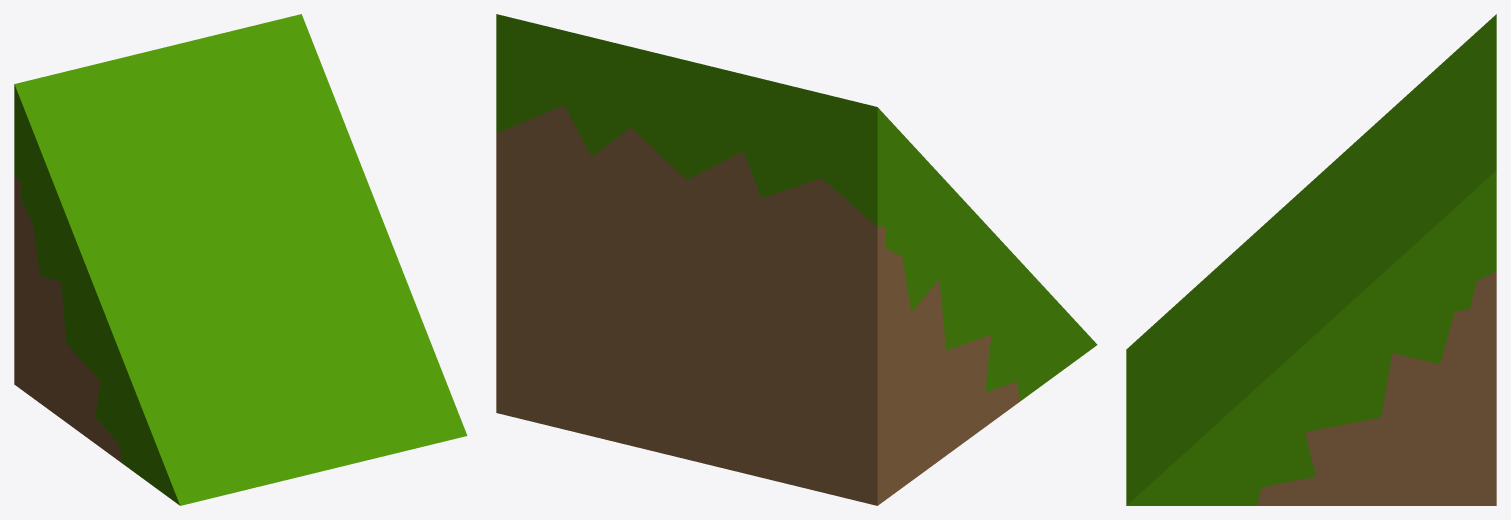
Rendered from RPG_Tiles_Square_Covered_Ramp_01.FBX.
3 views of the same model, side by side, from view 1: azimuth 30°, elevation 25°; view 2: azimuth 150°, elevation 25°; view 3: azimuth 270°, elevation 25° (orthographic). The views are drawn at different scales.
Visible parts, largest first — view 1: RPG_Tiles_Square_Covered_Ramp_01; view 2: RPG_Tiles_Square_Covered_Ramp_01; view 3: RPG_Tiles_Square_Covered_Ramp_01.
Part boxes in pixels (left/top/right/bottom): RPG_Tiles_Square_Covered_Ramp_01: left=14, top=14, right=467, bottom=505; RPG_Tiles_Square_Covered_Ramp_01: left=496, top=14, right=1097, bottom=505; RPG_Tiles_Square_Covered_Ramp_01: left=1126, top=14, right=1496, bottom=505.
Size of the model in its own units: 3000 by 3000 by 3000.
